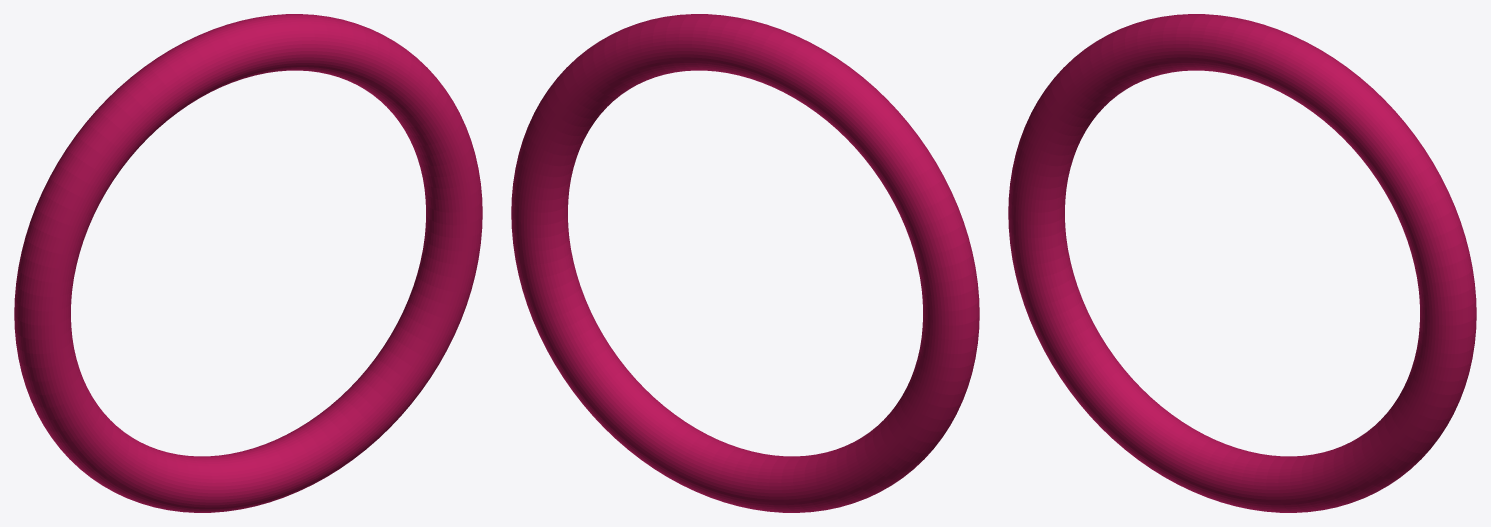
3 views of the same model, side by side, from view 1: azimuth 30°, elevation 25°; view 2: azimuth 150°, elevation 25°; view 3: azimuth 330°, elevation 25° (orthographic).
Visible parts, largest first — view 1: world; view 2: world; view 3: world.
Part boxes in pixels (left/top/right/bottom): world: left=14, top=14, right=482, bottom=512; world: left=511, top=14, right=979, bottom=512; world: left=1008, top=14, right=1476, bottom=512.
Bounding box in the file's own units: 31.33 × 31.33 × 3.33.
